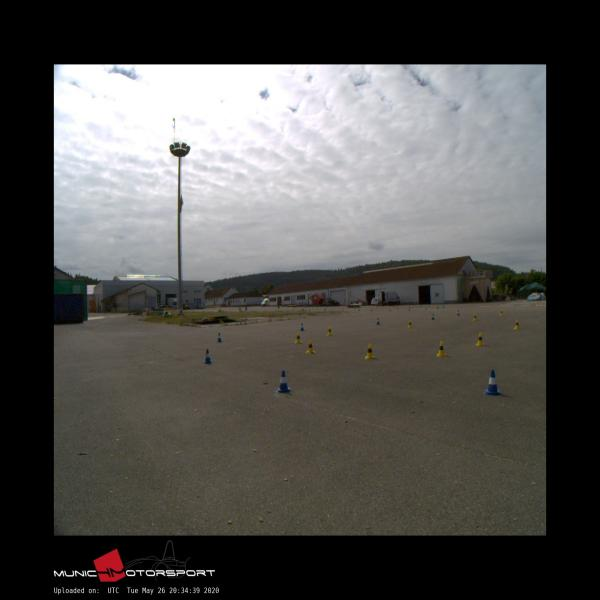blue_cone: (484, 370, 501, 395), (275, 371, 292, 392), (203, 349, 212, 363), (216, 332, 222, 342), (300, 323, 305, 331), (377, 318, 380, 324), (457, 310, 460, 315), (432, 314, 434, 320)
yellow_cone: (436, 341, 445, 357), (365, 344, 374, 359), (305, 340, 316, 352), (476, 332, 484, 344), (294, 332, 301, 342), (514, 320, 520, 328), (327, 326, 332, 335), (408, 320, 412, 328), (473, 313, 477, 321), (500, 309, 502, 315)
